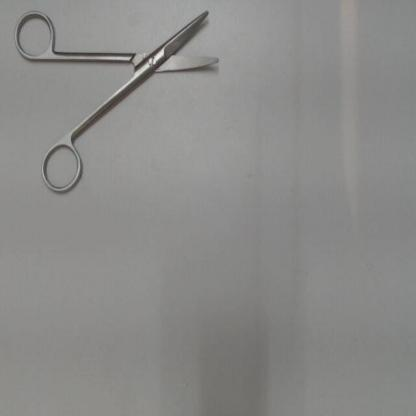Curved Mayo Scissors: (11, 3, 235, 204)
